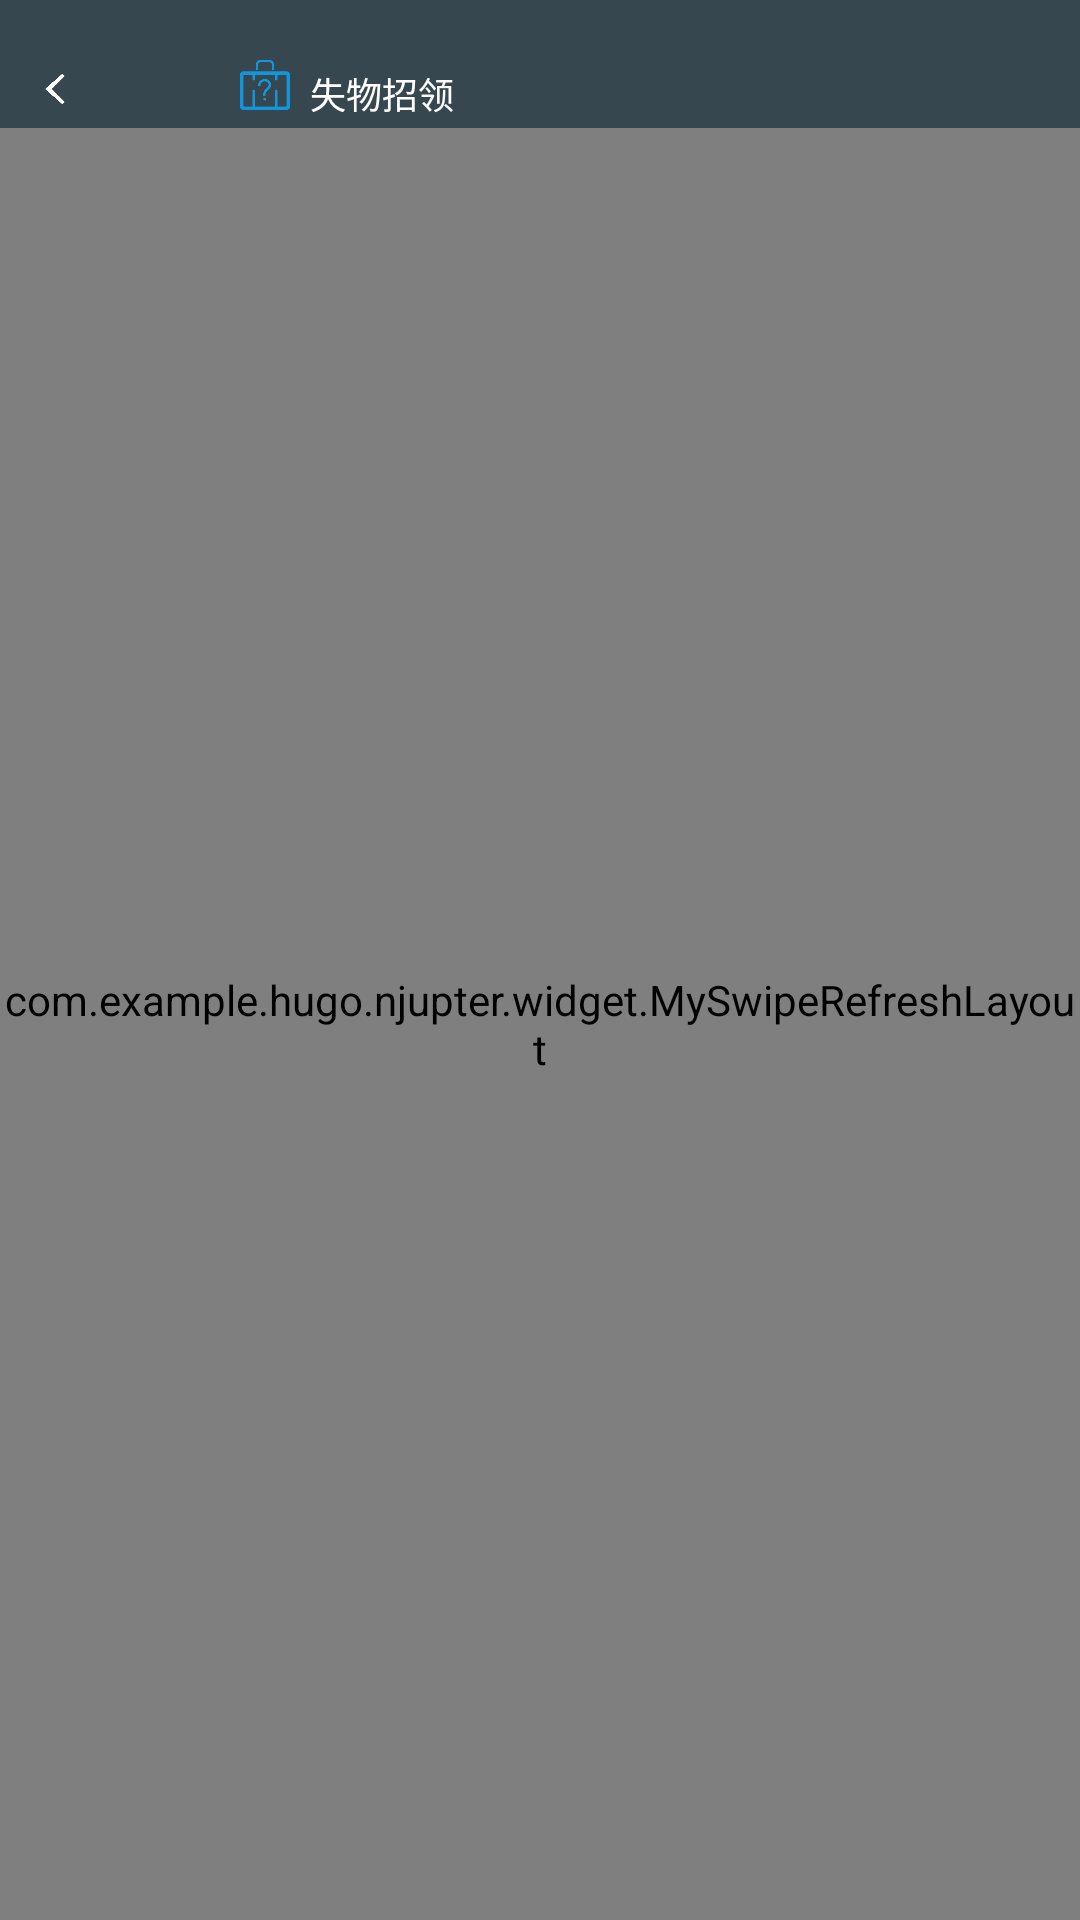

Icons on this 1080*1920 Android screen, each with the point to tap as (x=x, y=y):
back: (x=55, y=89)
